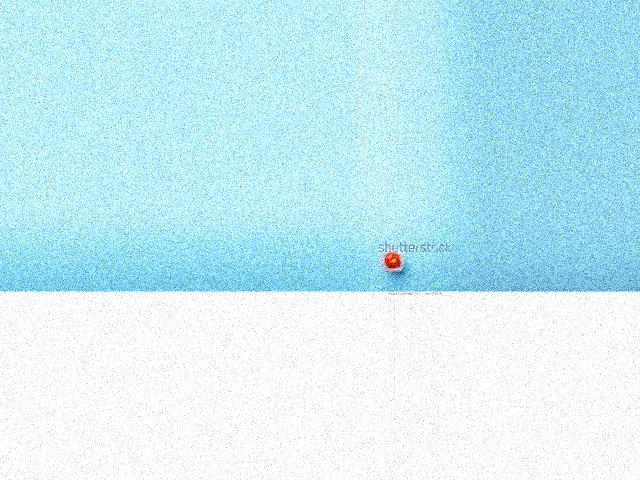tomato: (385, 252, 401, 268)
